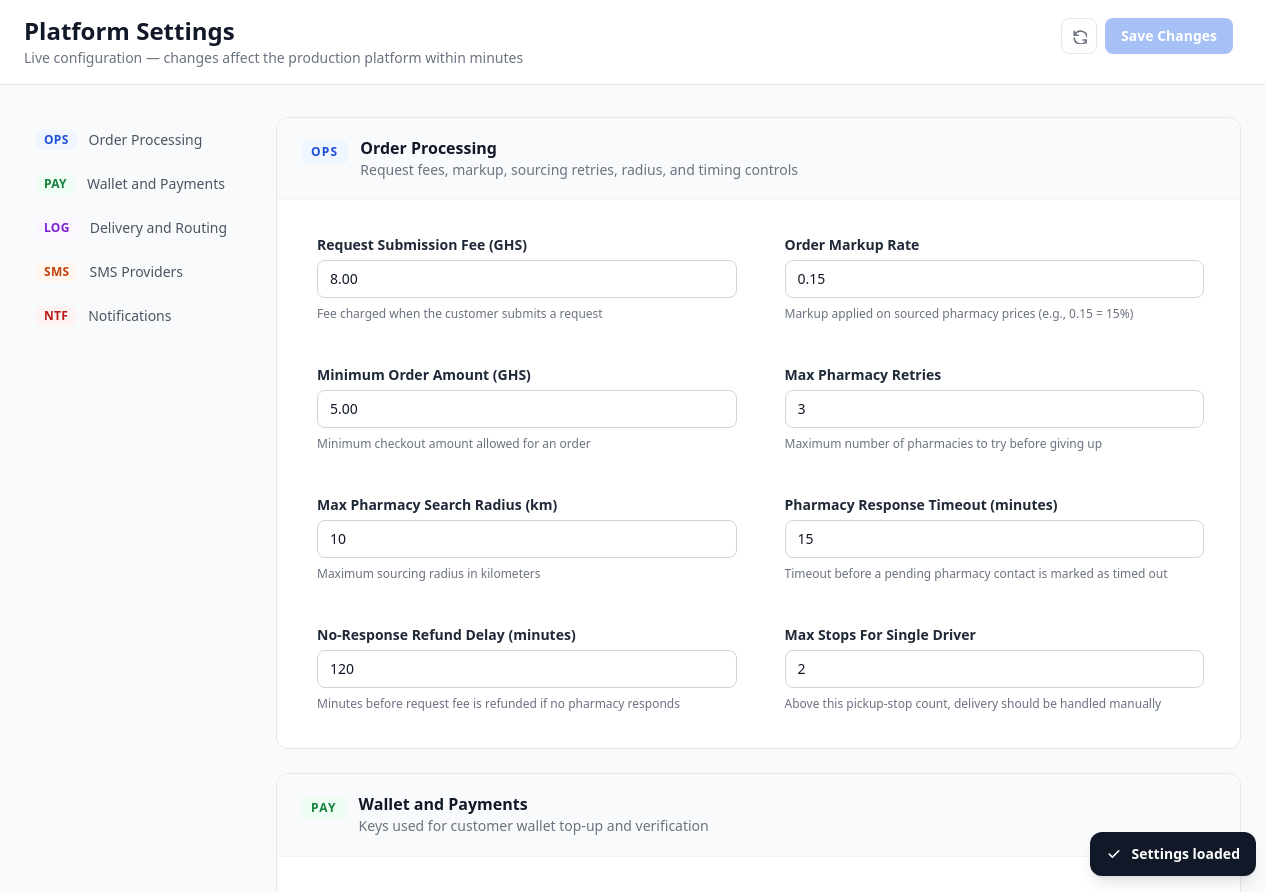
admin platform settings: saving › does not send a blank or non-numeric number setting, and says which one
Clear the number field labelled "Request Submission Fee (GHS)" at (527, 279), box [317,260,736,298]
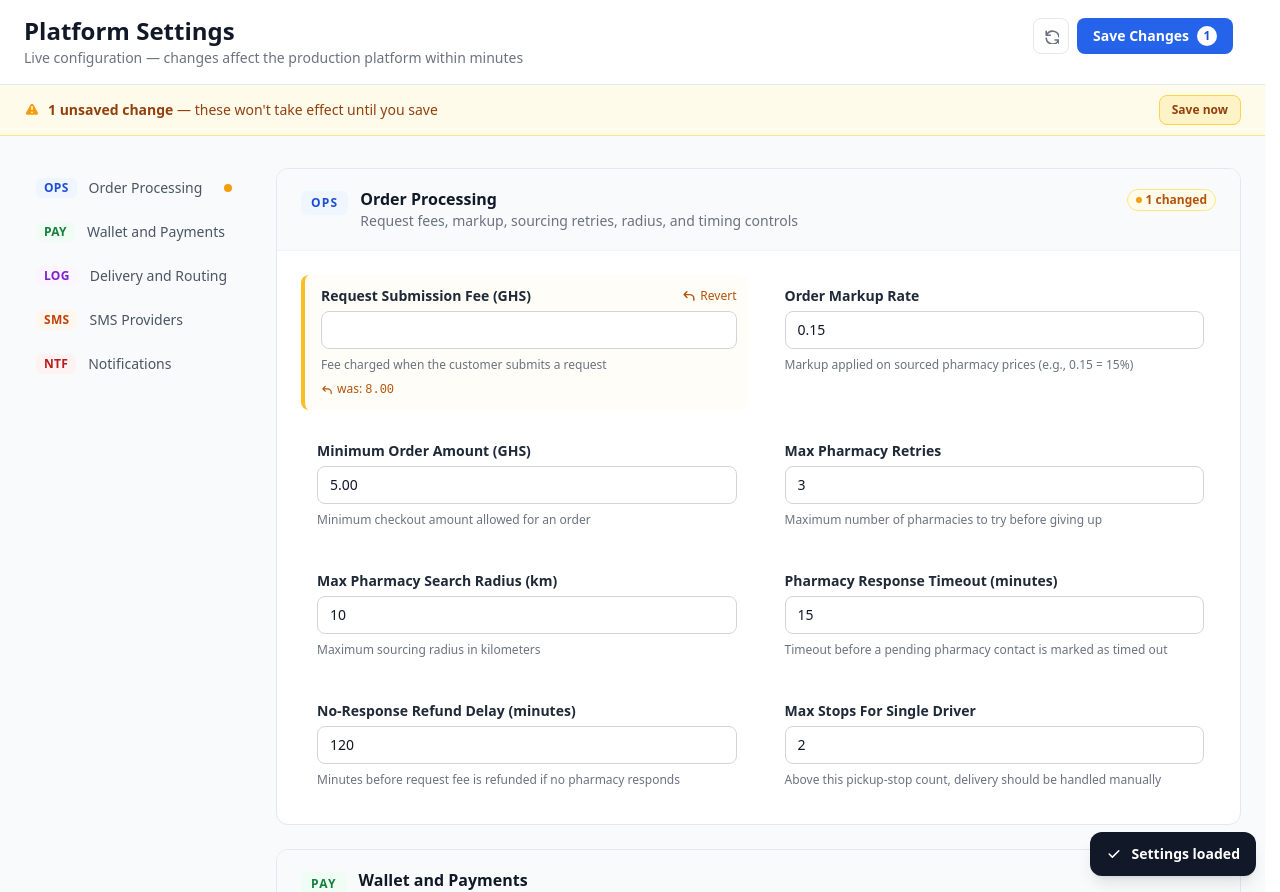
Click the button "Save Changes 1".
click(1155, 36)  # box [1077,18,1233,54]
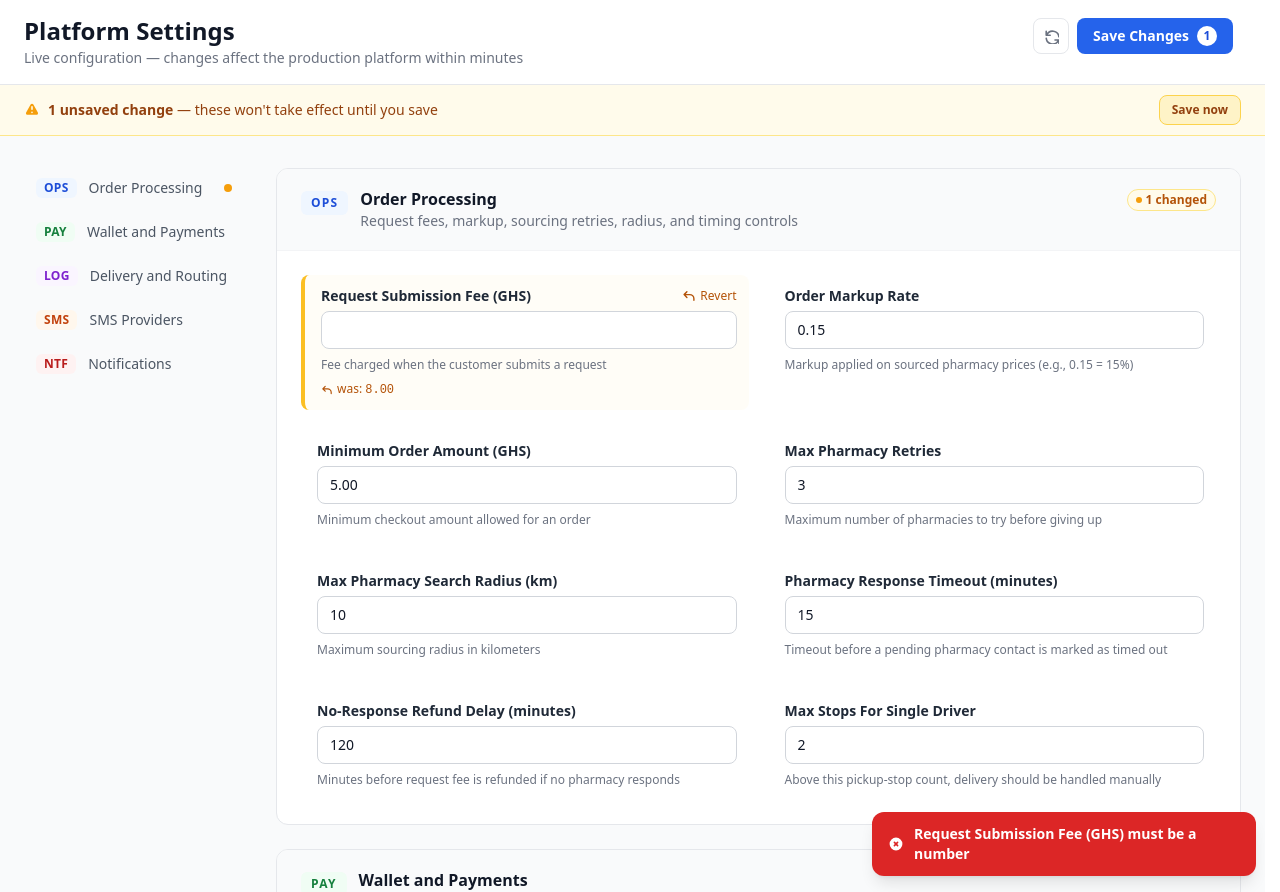
Result: the text "must be a number" is shown at [914,824,1196,863]
